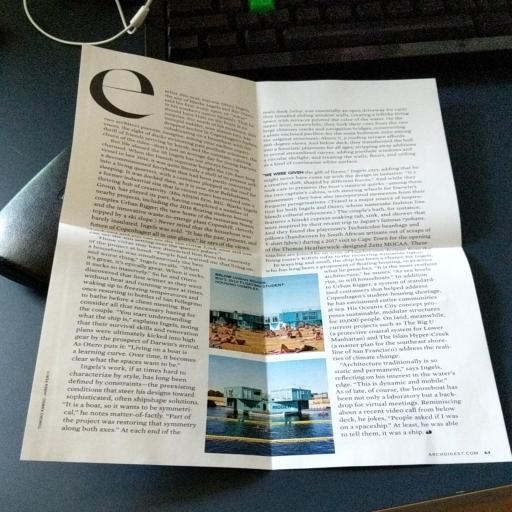paper: (8, 8, 512, 494)
